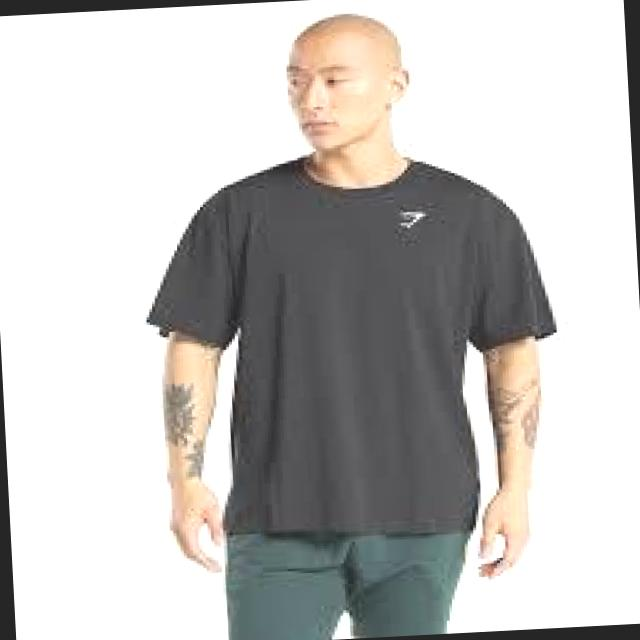Tshirt: (136, 138, 574, 550)
